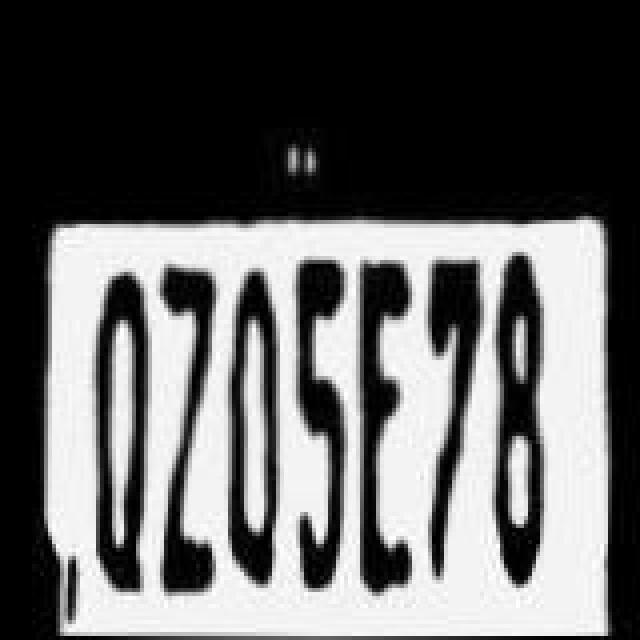5: (276, 254, 364, 598)
7: (418, 252, 494, 604)
8: (476, 240, 572, 608)
E: (338, 248, 430, 608)
O: (214, 264, 290, 608)
Q: (80, 268, 160, 612)
Z: (140, 260, 228, 612)
